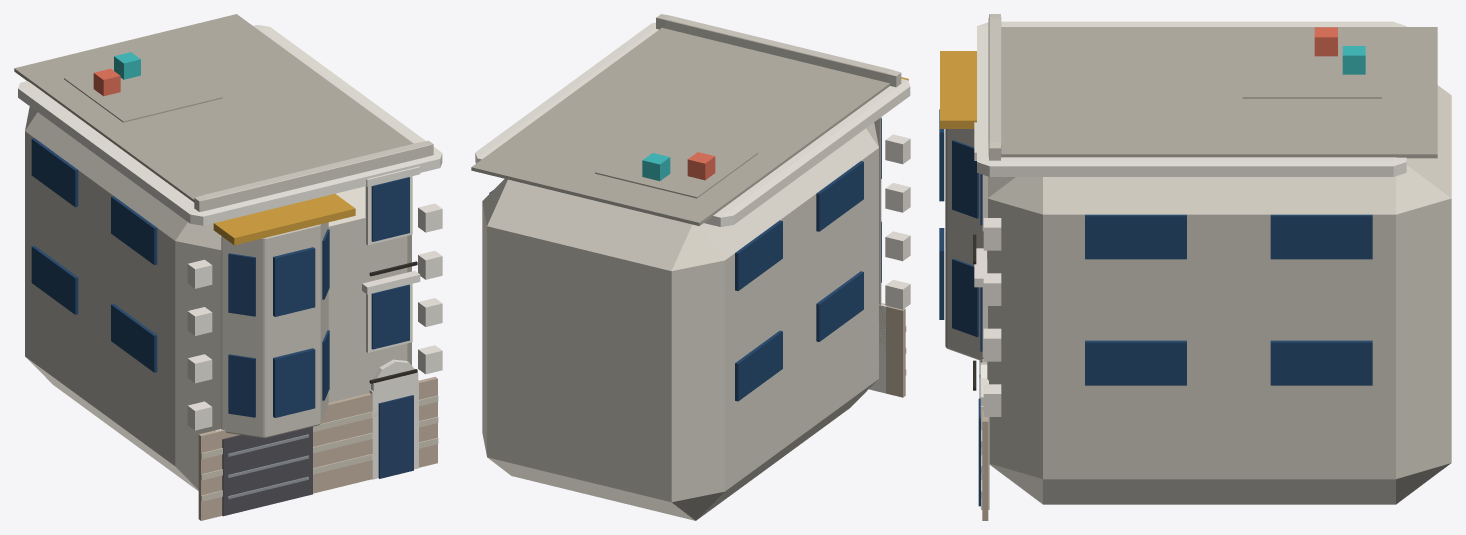
File: marina_w7_flat.glb
The picture shows the model from 3 angles, left to right: view 1: azimuth 30°, elevation 25°; view 2: azimuth 150°, elevation 25°; view 3: azimuth 270°, elevation 25°; orthographic projection. The views are drawn at different scales.
Visible parts, largest first — view 1: walls, roofslab, bay, corn, base, gdoor, deckf, parapet, scallop, edoor, bw, bw.001 (+28 smaller); view 2: walls, roofslab, corn, deckf, parapet, sb.004, sb, sb.002, sb.006, base, gfr, chair.001 (+6 smaller); view 3: walls, roofslab, corn, deckf, sb.003, sb.007, sb.001, sb.005, bay, scallop, parapet, bwa.003 (+8 smaller).
Part boxes in pixels (<box>): walls: <box>25,106,411,490</box>; roofslab: <box>14,14,413,202</box>; bay: <box>221,222,328,438</box>; corn: <box>18,25,442,225</box>; base: <box>198,376,437,520</box>; gdoor: <box>222,427,312,516</box>; deckf: <box>64,53,222,122</box>; parapet: <box>194,140,433,211</box>; scallop: <box>213,194,355,245</box>; edoor: <box>378,395,413,478</box>; bw: <box>273,348,315,417</box>; bw.001: <box>273,247,315,316</box>; walls: <box>482,122,878,520</box>; roofslab: <box>471,28,889,226</box>; corn: <box>475,22,910,226</box>; deckf: <box>595,128,757,198</box>; parapet: <box>656,14,901,87</box>; sb.004: <box>816,161,863,231</box>; sb: <box>816,271,863,341</box>; sb.002: <box>735,330,782,401</box>; sb.006: <box>735,220,782,290</box>; base: <box>879,303,905,397</box>; gfr: <box>869,303,886,393</box>; chair.001: <box>642,153,670,180</box>; walls: <box>987,85,1451,504</box>; roofslab: <box>1001,27,1437,158</box>; corn: <box>977,21,1406,176</box>; deckf: <box>1242,40,1381,98</box>; sb.003: <box>1270,340,1372,385</box>; sb.007: <box>1270,214,1372,259</box>; sb.001: <box>1085,340,1186,385</box>; sb.005: <box>1085,214,1186,259</box>; bay: <box>945,129,987,360</box>; scallop: <box>940,51,976,128</box>; parapet: <box>988,14,1001,160</box>; bwa.003: <box>952,140,978,218</box>.
Size of the model in its own units: 8.1 by 10.02 by 12.14.
